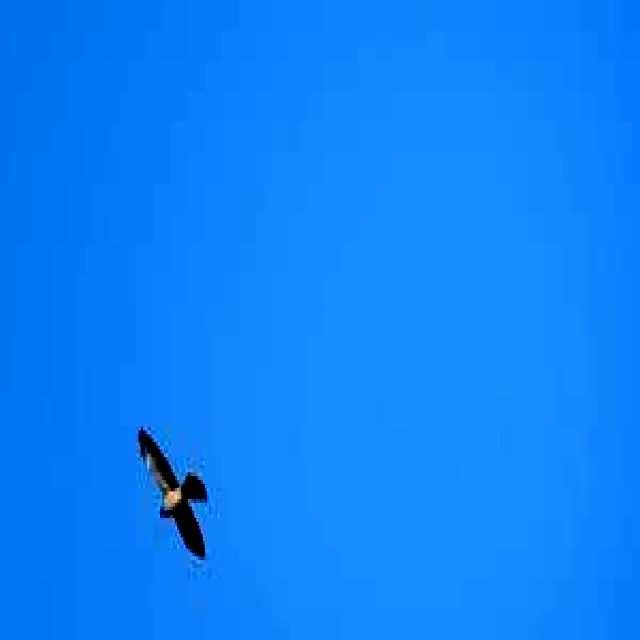bird: (134, 421, 218, 568)
